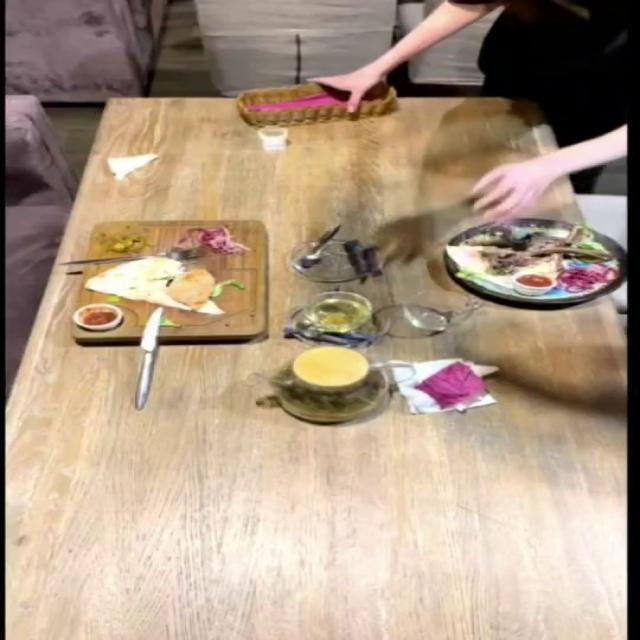meat: (444, 217, 621, 301)
tea: (261, 334, 405, 418)
